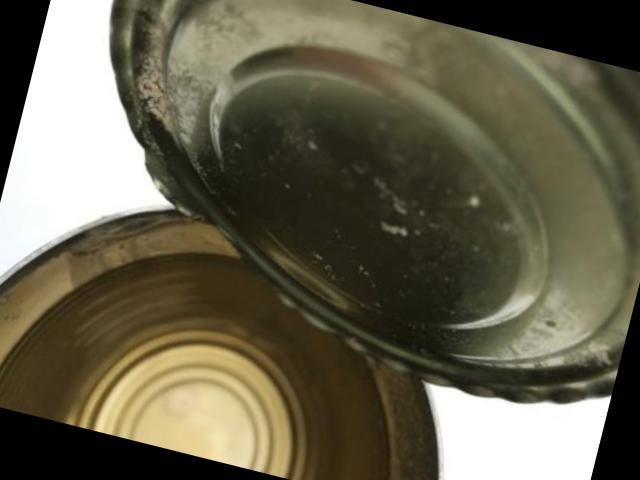metal: (0, 209, 439, 480)
